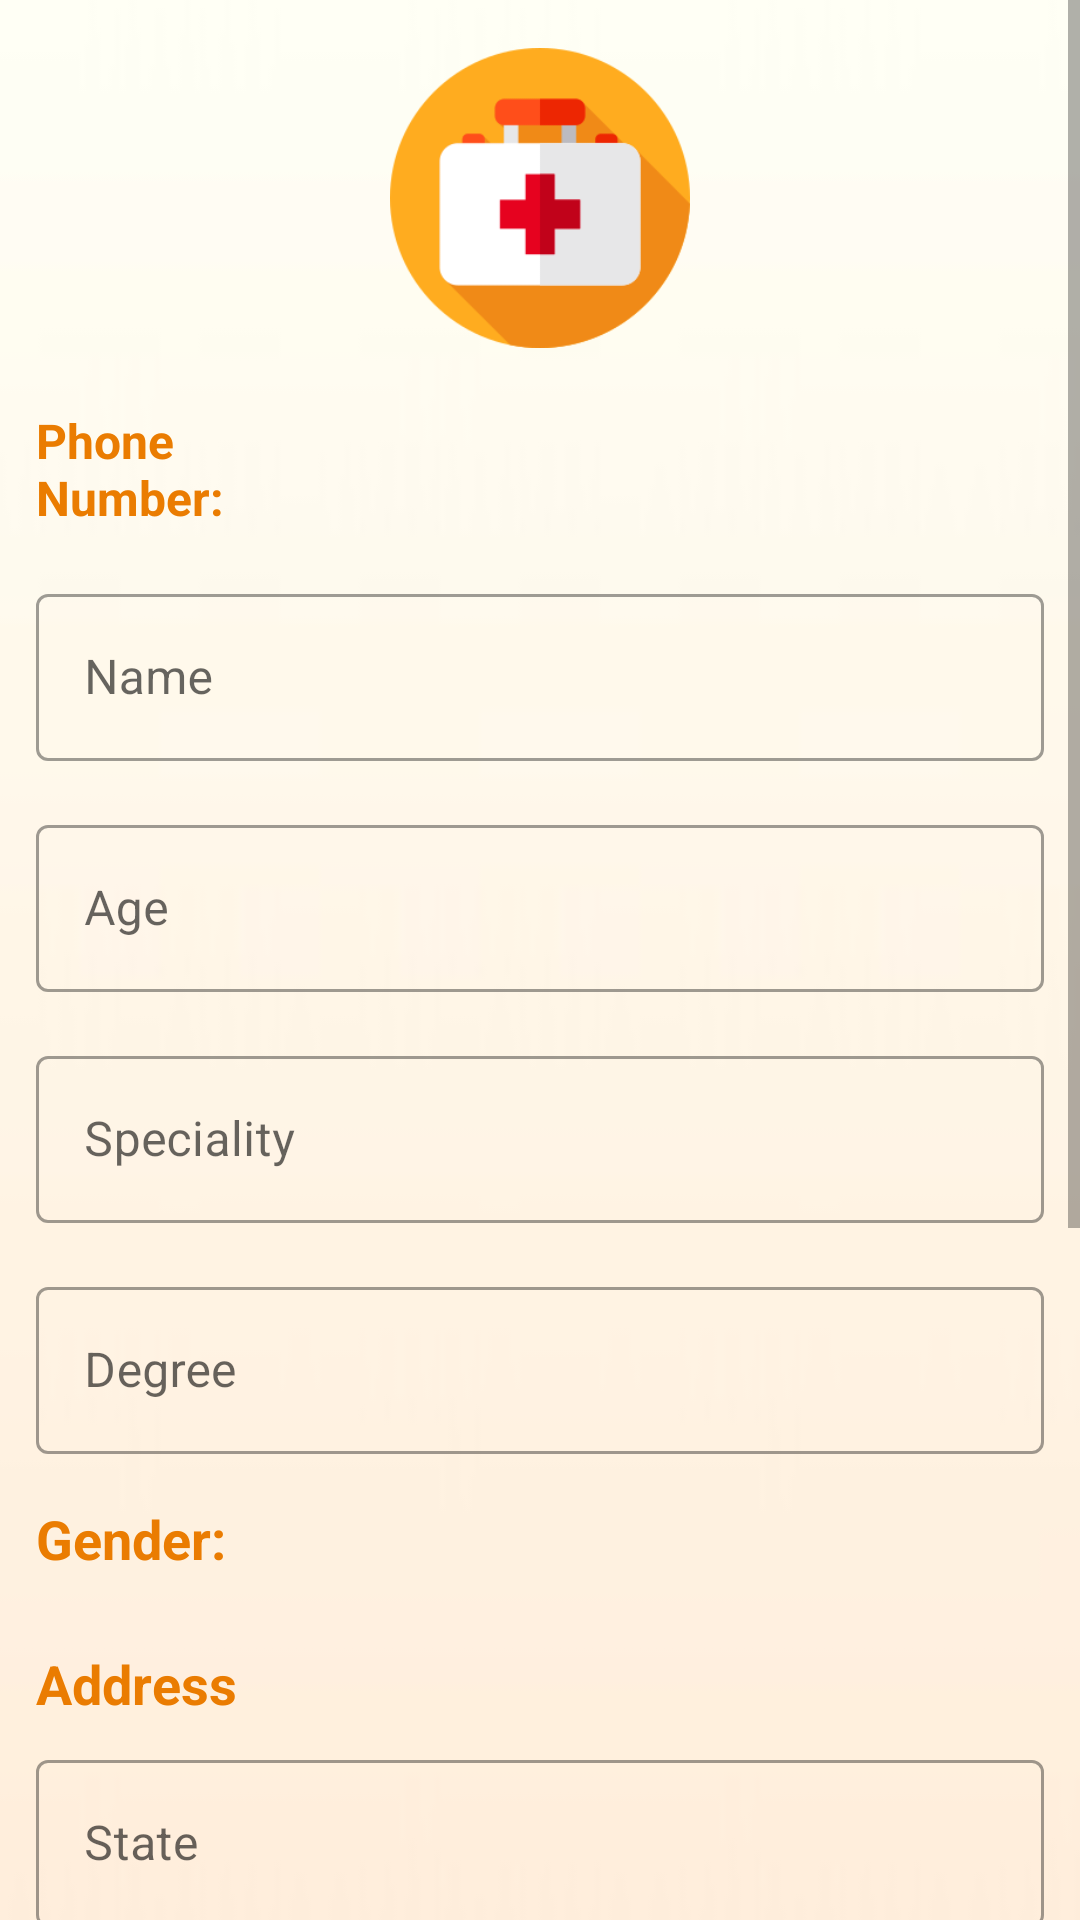

Icons on this 1080x1920 Android screen, each with the point to tap as point (x, y):
doctor: point (540, 198)
